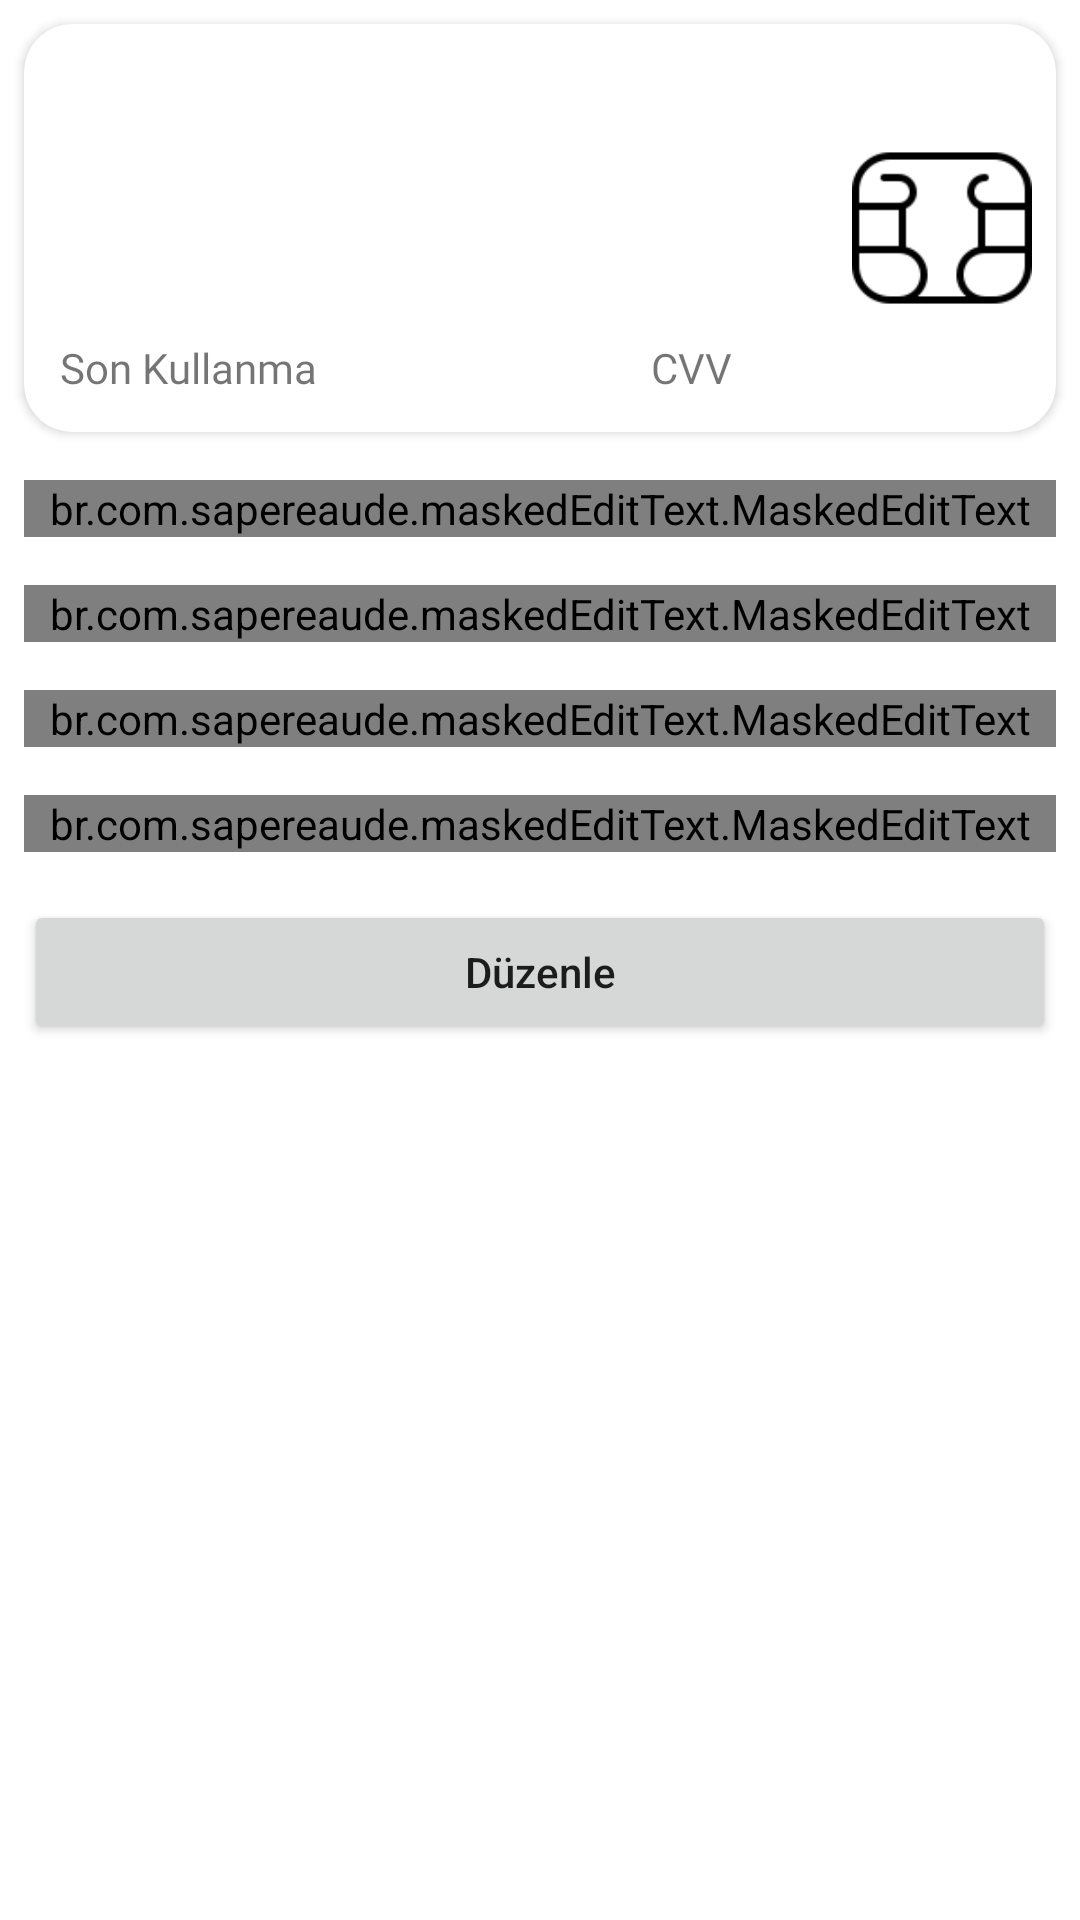

Icons on this 1080w x 1920h Android screen, each with its box as (x1, y1, x2, y2):
credit card chip: (852, 152, 1032, 304)
